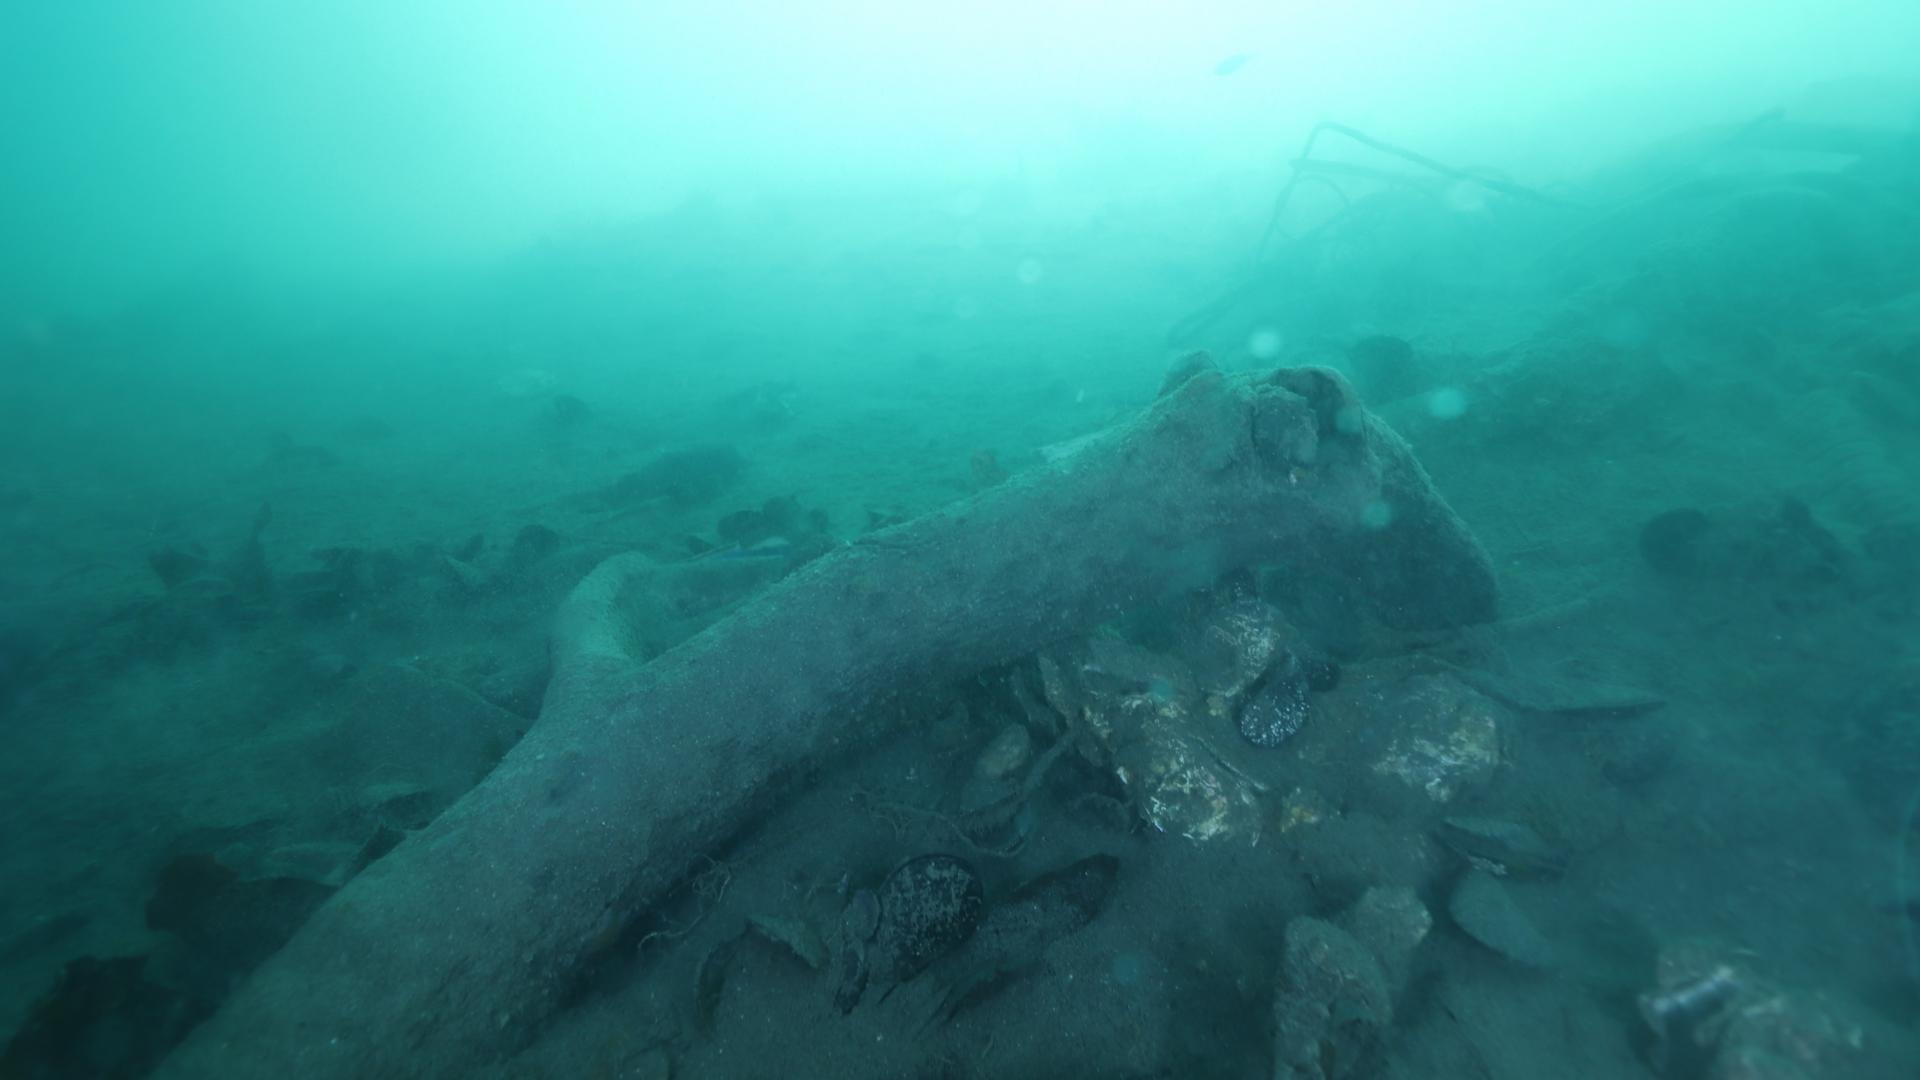wood: (146, 348, 1375, 1080)
